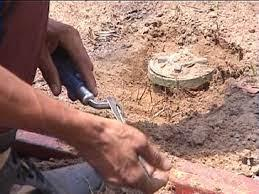pmn: (146, 46, 216, 93)
